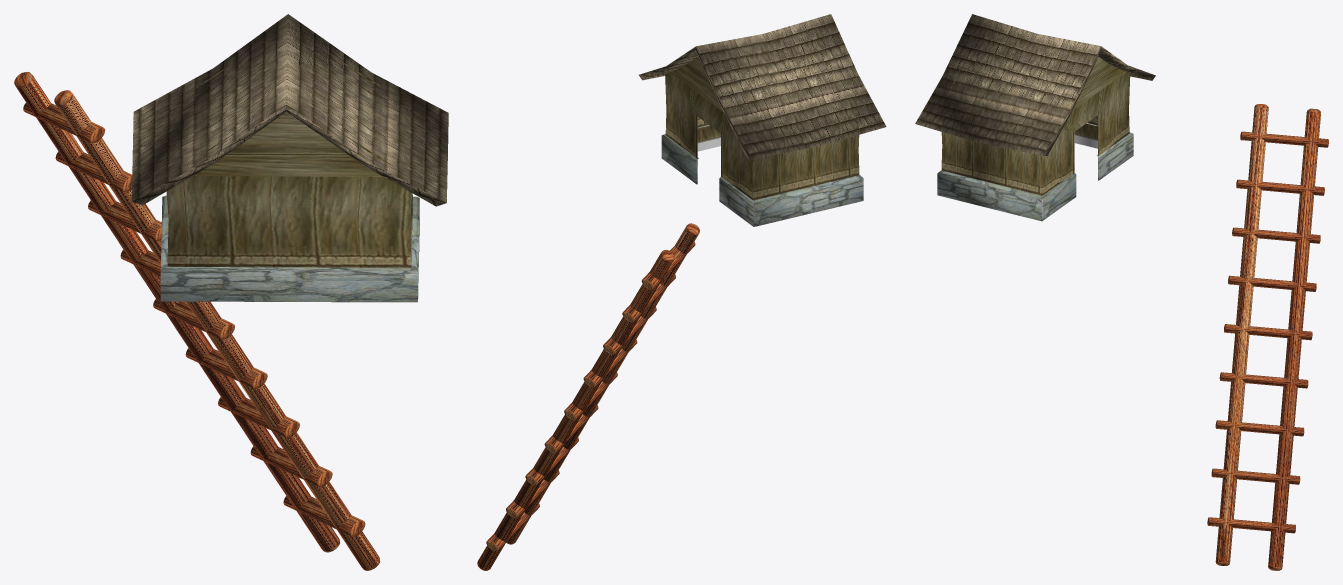
File: lom_model1.fbx
3 views of the same model, side by side, from view 1: azimuth 30°, elevation 25°; view 2: azimuth 150°, elevation 25°; view 3: azimuth 270°, elevation 25° (orthographic). The views are drawn at different scales.
Parts seen in each view (by area): view 1: chatka1, zebrik1; view 2: chatka1, zebrik1; view 3: chatka1, zebrik1.
Boxes of the visible parts, left/top/right/bottom form: chatka1: left=131, top=14, right=448, bottom=302; zebrik1: left=14, top=72, right=380, bottom=570; chatka1: left=639, top=14, right=886, bottom=226; zebrik1: left=477, top=223, right=699, bottom=570; chatka1: left=915, top=14, right=1155, bottom=221; zebrik1: left=1207, top=104, right=1328, bottom=570.
Bounding box in the file's own units: 2.58 × 4.26 × 3.41.
Materials: 2 (2 with a texture image).
